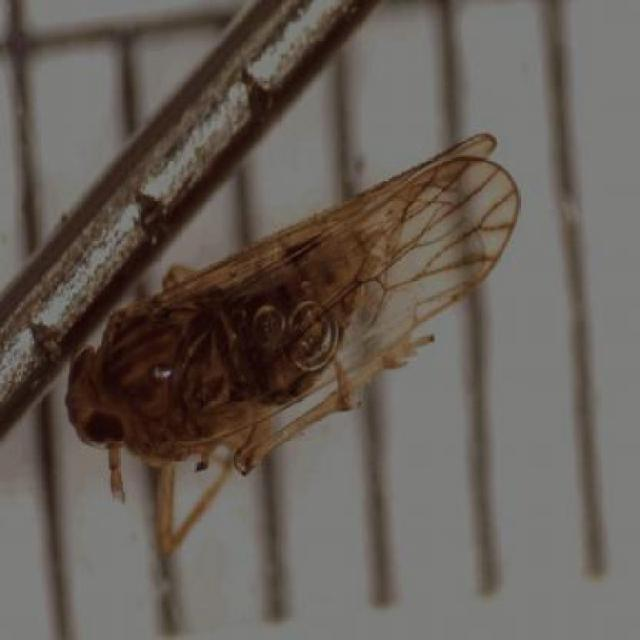brown-planthopper: (65, 133, 521, 501)
